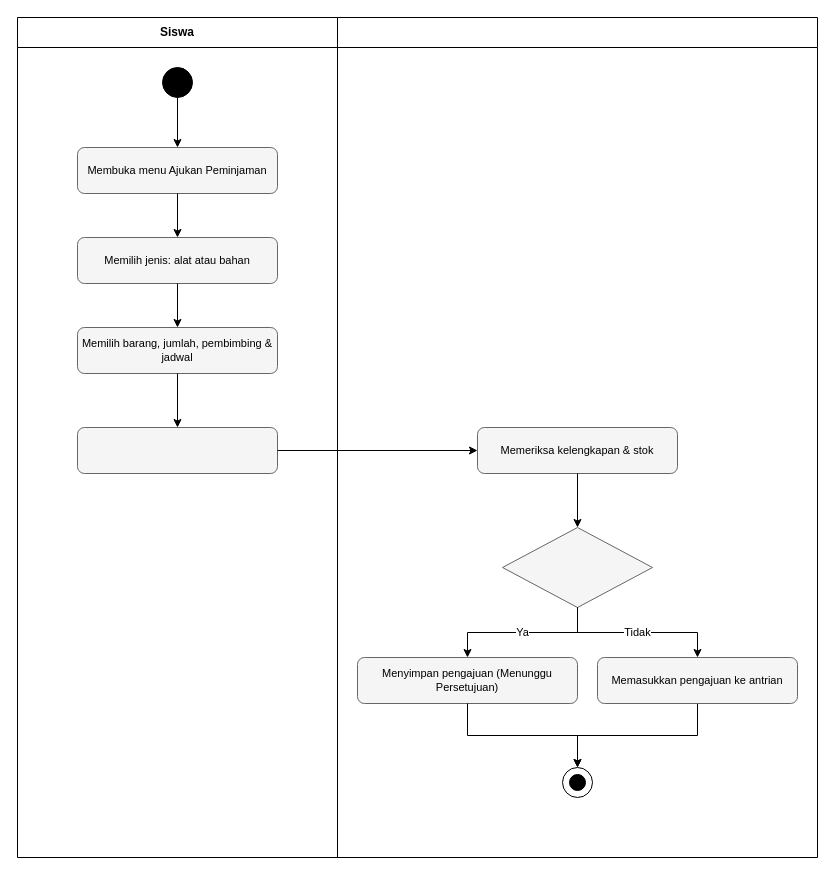
Image size: 835x875. Some labels were removed from this diagram. Here are the shapes that lost their labels. From the top down, the box of each, then its label:
(76, 426, 278, 474): Mengisi keperluan lalu menekan kirim
(336, 16, 818, 858): Sistem
(502, 526, 652, 608): Stok alat tersedia?
